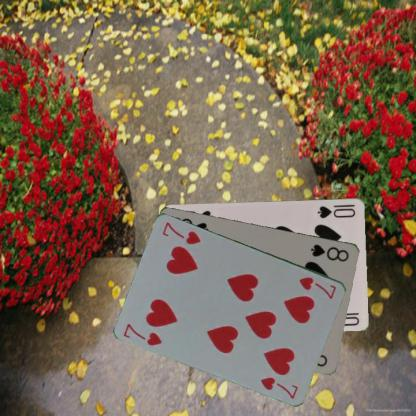10s: (315, 202, 357, 220)
7h: (296, 274, 338, 300), (122, 321, 164, 347)
8s: (308, 241, 350, 263)
